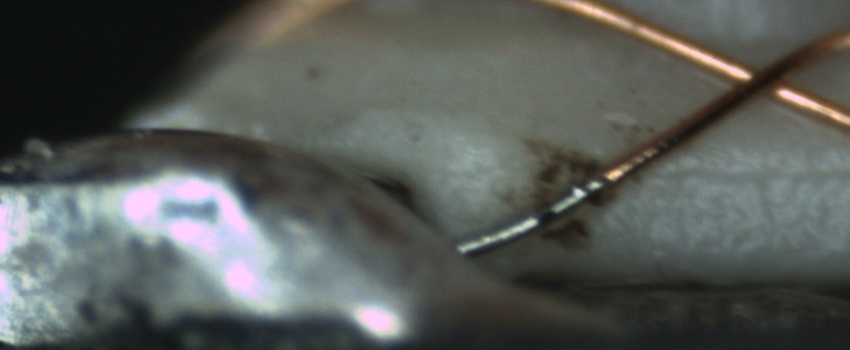CL: (706, 40, 813, 111)
DL: (635, 141, 850, 204)
TS: (455, 176, 608, 254)
